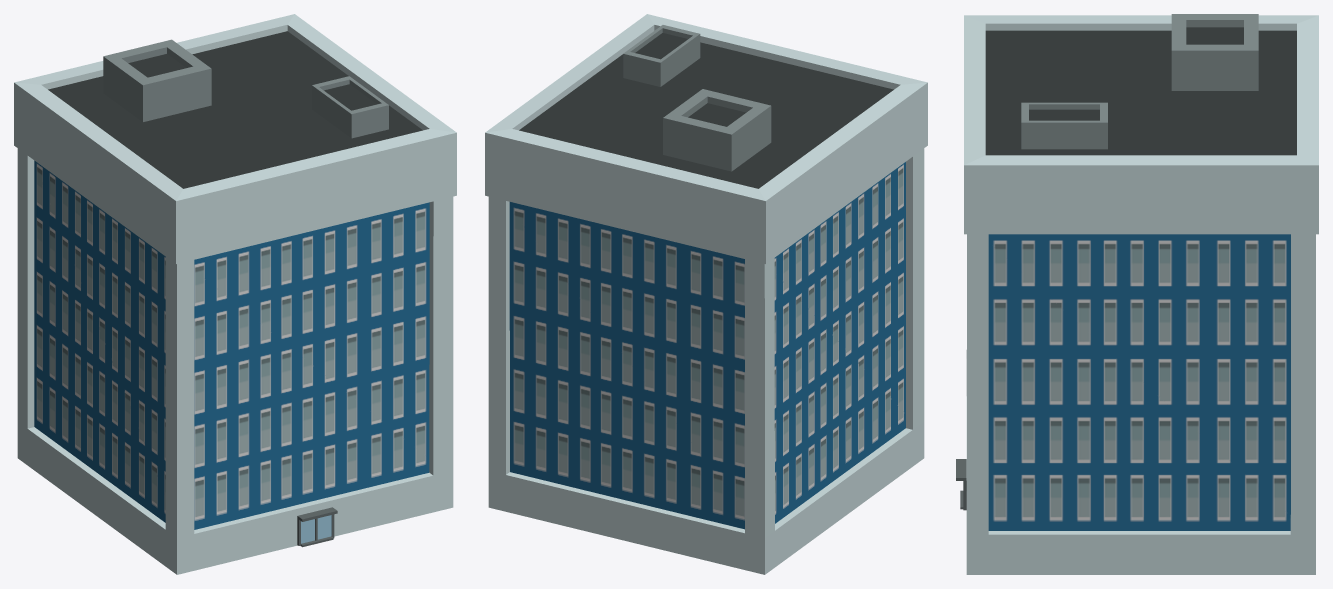
File: High Tower Low.fbx
The picture shows the model from 3 angles, left to right: view 1: azimuth 30°, elevation 25°; view 2: azimuth 150°, elevation 25°; view 3: azimuth 270°, elevation 25°; orthographic projection. The views are drawn at different scales.
Visible parts, largest first — view 1: High Tower Low; view 2: High Tower Low; view 3: High Tower Low.
Boxes of the visible parts, <box> form: High Tower Low: <box>14,14,456,574</box>; High Tower Low: <box>485,14,927,574</box>; High Tower Low: <box>956,14,1318,574</box>.
Bounding box in the file's own units: 8.56 × 11.84 × 8.75.
